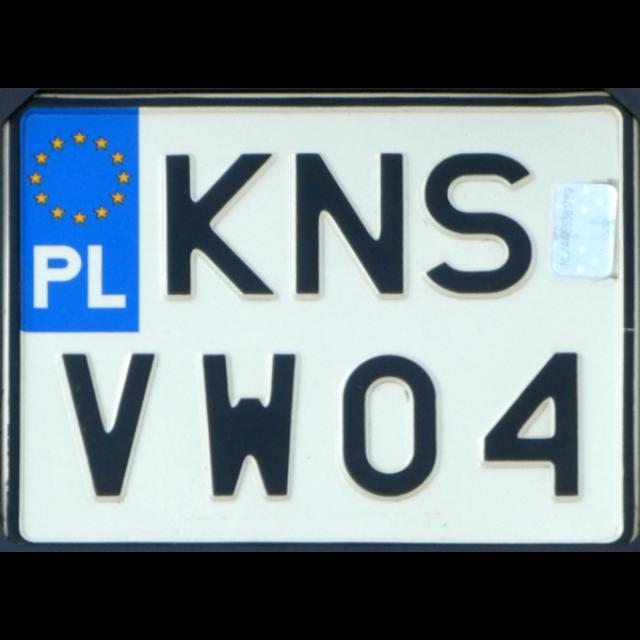pl_license_plate: (20, 106, 624, 542)
